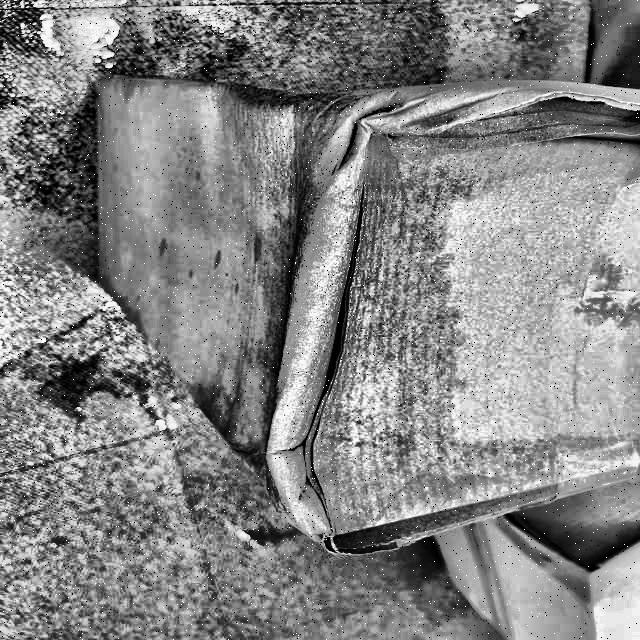box: (86, 54, 640, 560)
wet: (218, 92, 448, 492)
